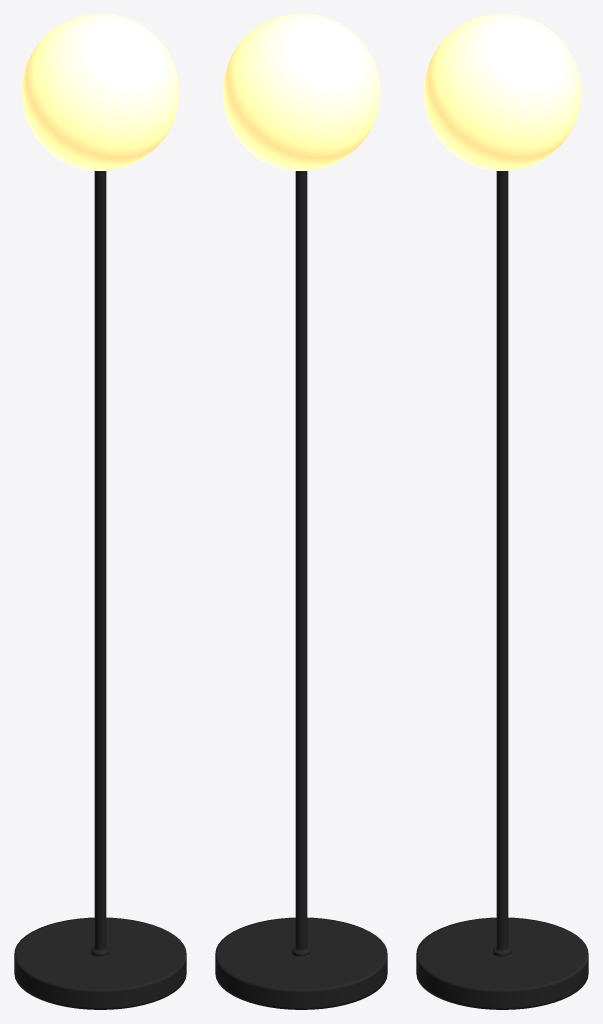
Rendered from Floorlamp5.fbx.
3 views of the same model, side by side, from view 1: azimuth 30°, elevation 25°; view 2: azimuth 150°, elevation 25°; view 3: azimuth 270°, elevation 25° (orthographic).
Visible parts, largest first — view 1: SM_Floorlamp5_01; view 2: SM_Floorlamp5_01; view 3: SM_Floorlamp5_01.
Boxes of the visible parts, x1,y1,x2,y2 form: SM_Floorlamp5_01: (14,14,186,1009); SM_Floorlamp5_01: (215,14,387,1009); SM_Floorlamp5_01: (416,14,588,1009).
Bounding box in the file's own units: 26.17 × 160 × 26.17.
